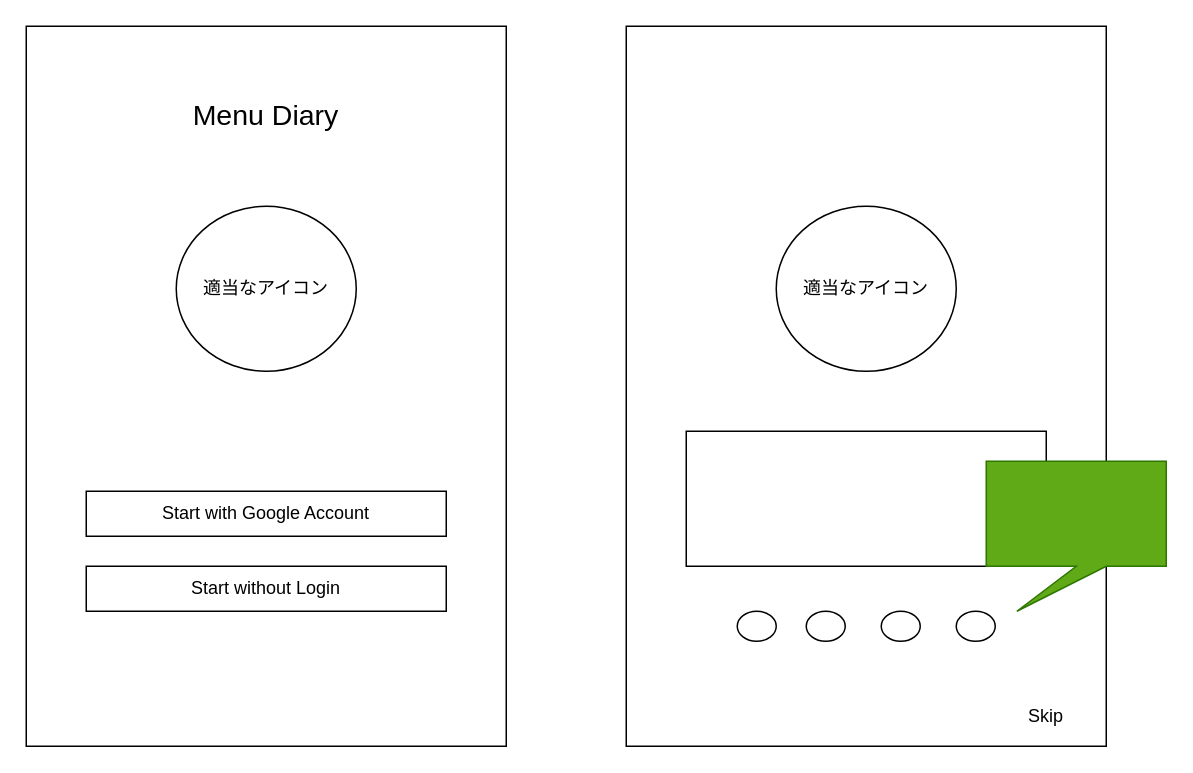
The diagram is 1193 pixels wide and 773 high, and some of its shapes have lost their labels. The shapes that lost their labels are listed below. From the top down, each one's box as (x1, y1, x2, y2) in pixels, then its label:
(685, 430, 1046, 566): 適当な説明文
(985, 460, 1166, 611): よくあるページ送り的な部品
